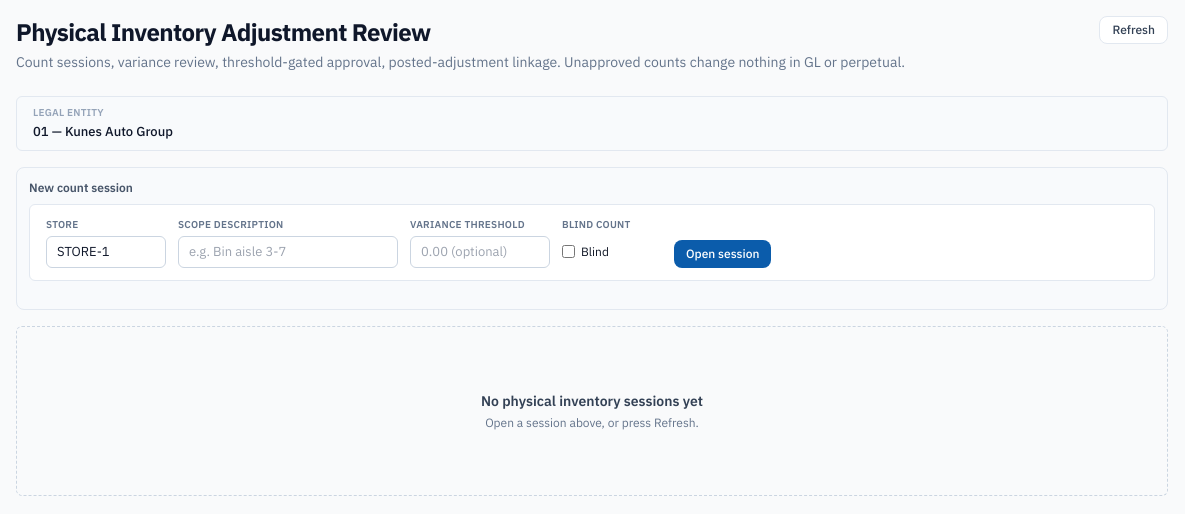
PartsPhysicalInventory › shows the unauthorized state on a 401/403 response
What coordinates should you click on to do the following:
click the button with test id "physical-refresh"
I would click on:
 (1134, 30)
Its box is [1100,16,1168,44].
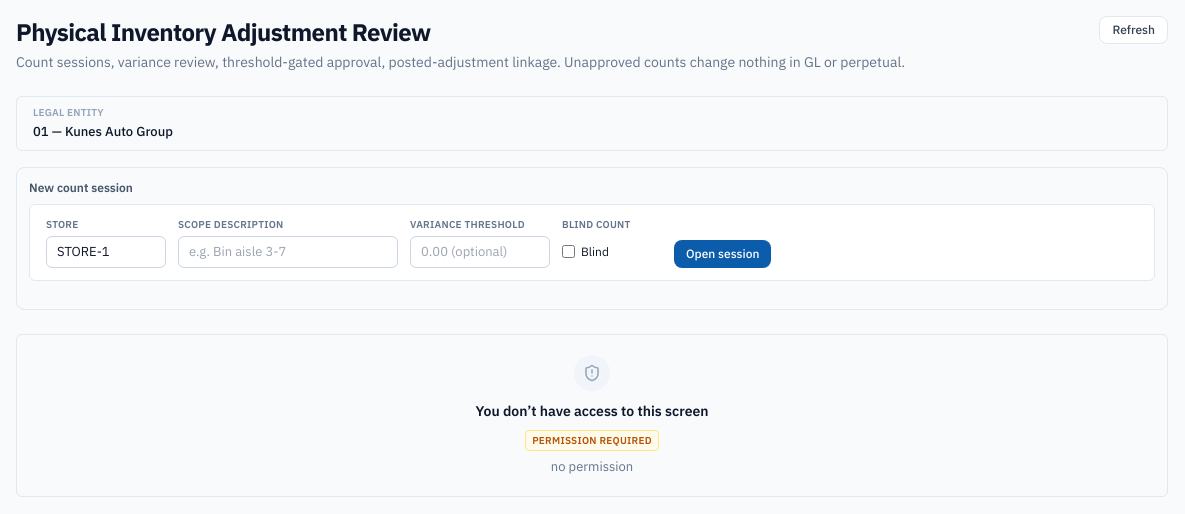
Result: the element with test id "physical-unauthorized" is shown at [16,334,1168,497]
